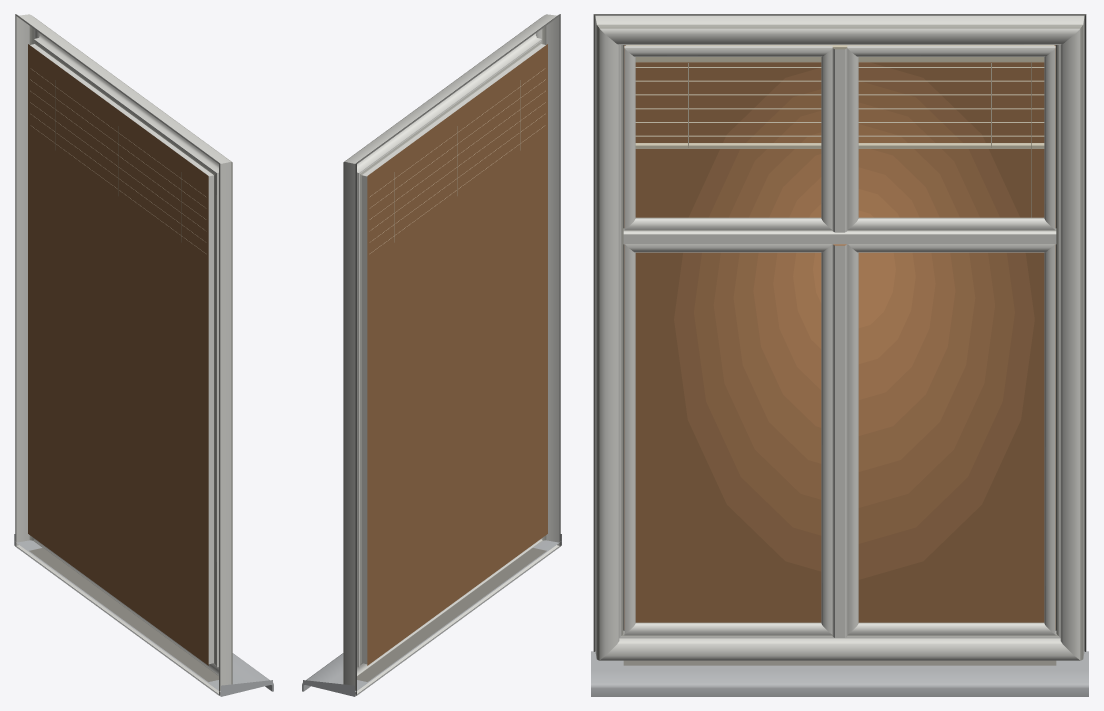
The model's file is window_entry_188.glb.
The picture shows the model from 3 angles, left to right: view 1: azimuth 30°, elevation 25°; view 2: azimuth 150°, elevation 25°; view 3: azimuth 270°, elevation 25°; orthographic projection. The views are drawn at different scales.
Parts seen in each view (by area): view 1: fenster; view 2: fenster; view 3: fenster.
Boxes of the visible parts, x1,y1,x2,y2 form: fenster: (14,14,273,696); fenster: (302,14,561,696); fenster: (591,14,1088,696).
Size of the model in its own units: 0.205 by 1.99 by 1.38.
